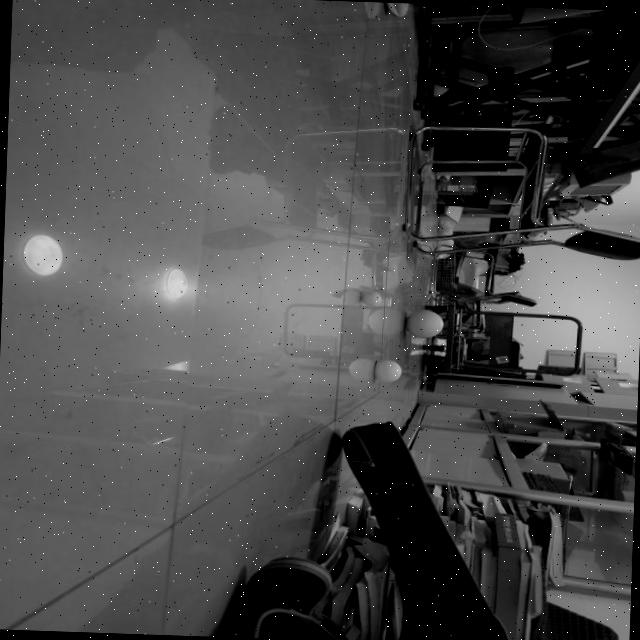ping-pong-ball: (360, 290, 380, 306)
